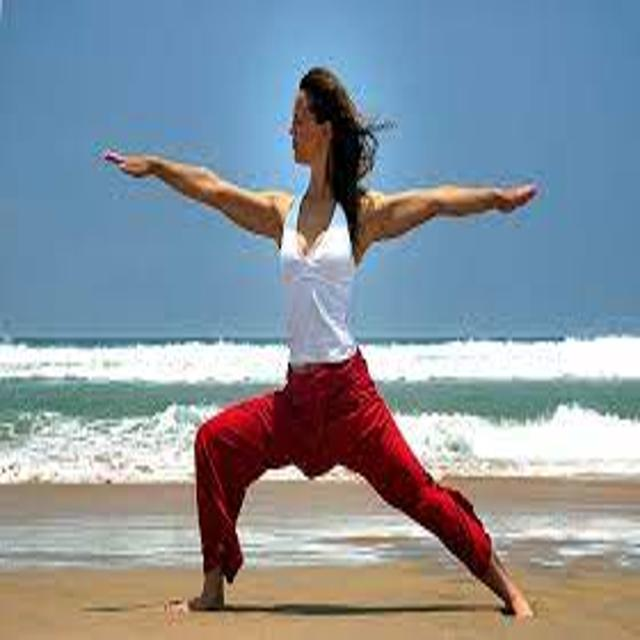Warrior_II: (93, 64, 542, 620)
